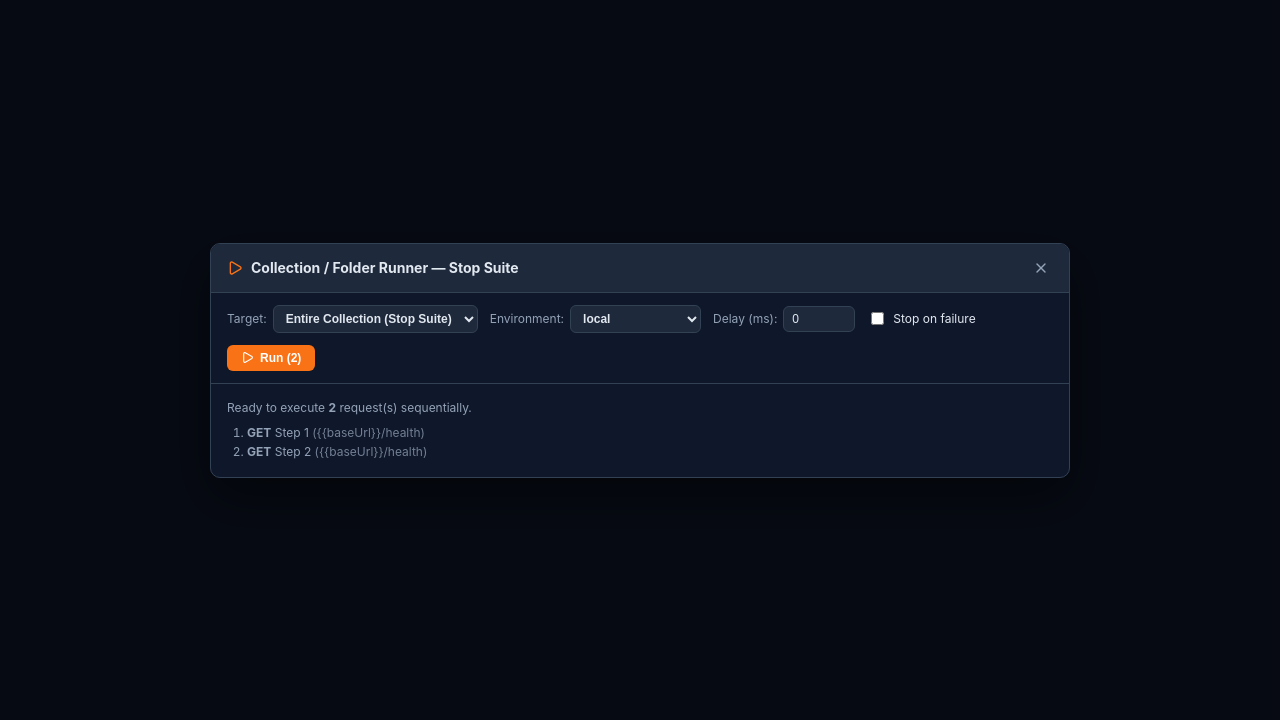
Test: CollectionRunnerModal › stops on first failed assertion when stop-on-failure is enabled
Click the checkbox with test id "runner-stop-on-failure-checkbox" at {"x": 878, "y": 318}, box [871,312,884,325]
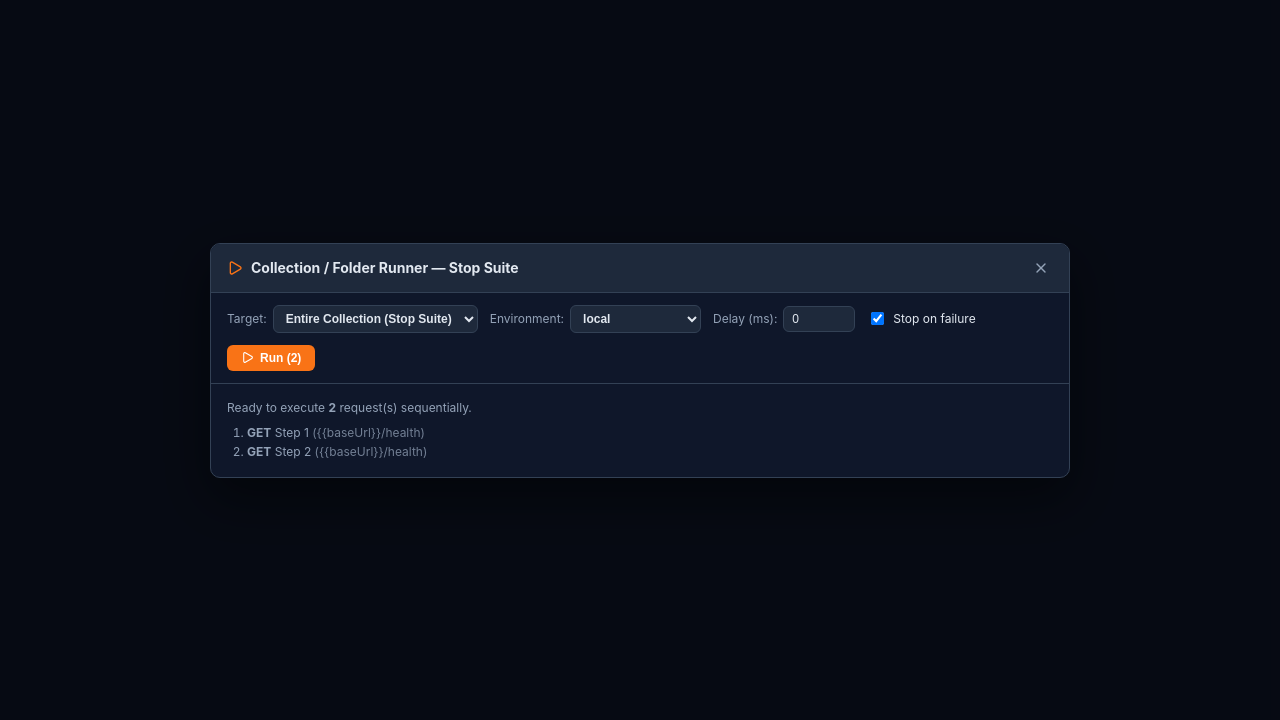
Click the button with test id "start-collection-run-btn" at {"x": 271, "y": 358}, box [227,344,315,370]
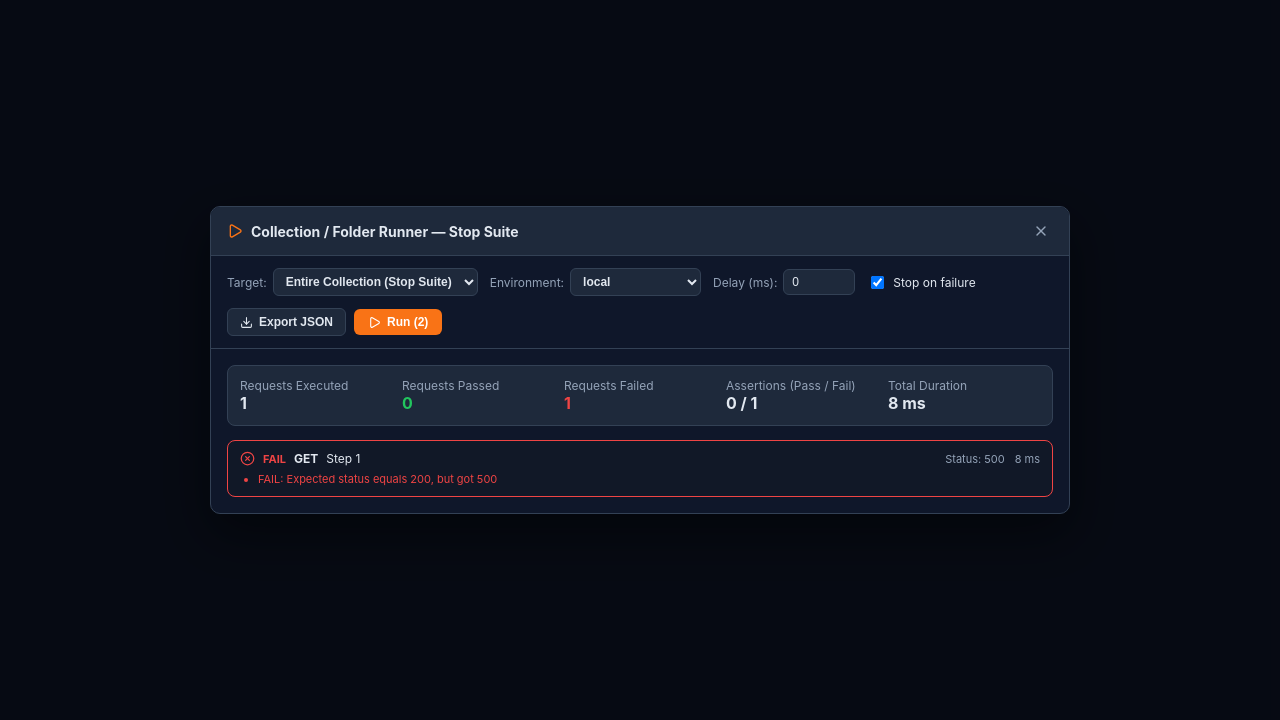
Now the element with test id "runner-summary" is shown, box [227,365,1053,426]
Now the text with test id "runner-total-requests" reads "1", box [240,393,247,413]
Now the text with test id "runner-failed-requests" reads "1", box [564,393,571,413]
